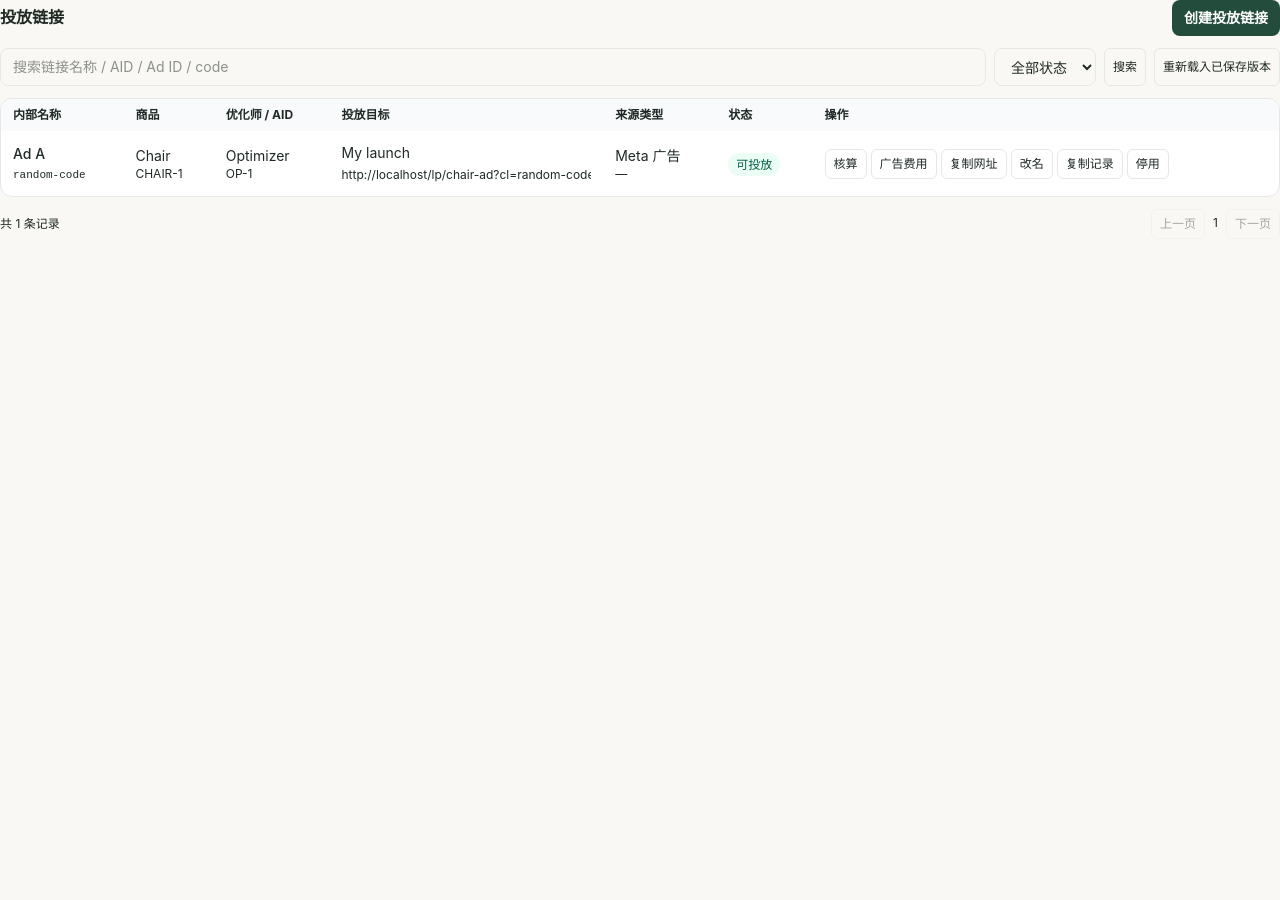
Test case: persisted campaign links › does not silently retarget a draft or inactive preselected page to the product page
Expected: the text "Ad A" is shown, [13,145,45,162]
Click the button "创建投放链接": (1226, 18) [1172,0,1279,36]
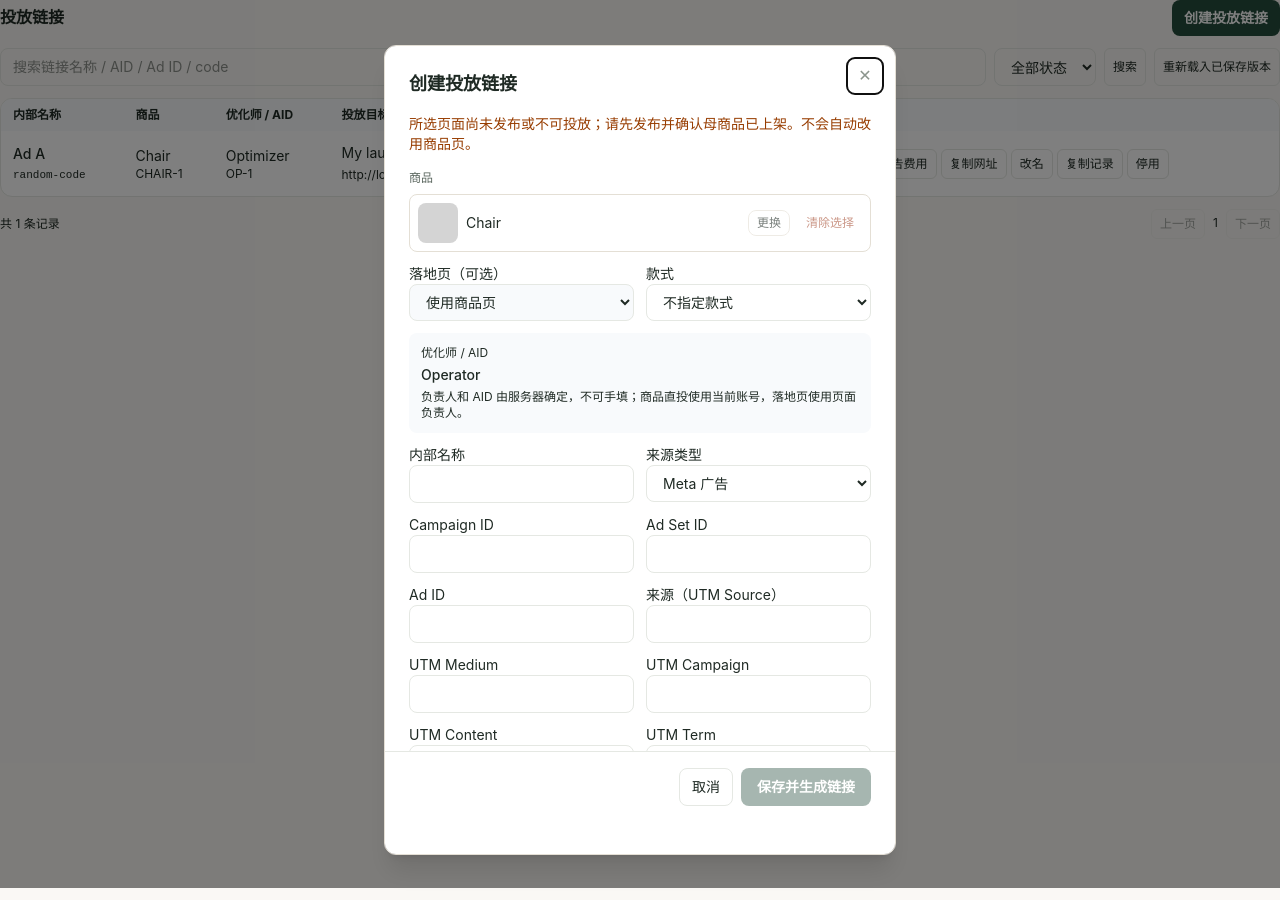
Expected: the text "所选页面尚未发布或不可投放；请先发布并确认母商品已上架。不会自动改用商品页。" is shown, [409,114,871,154]
Expected: the button "保存并生成链接" is disabled, [741,768,871,806]
